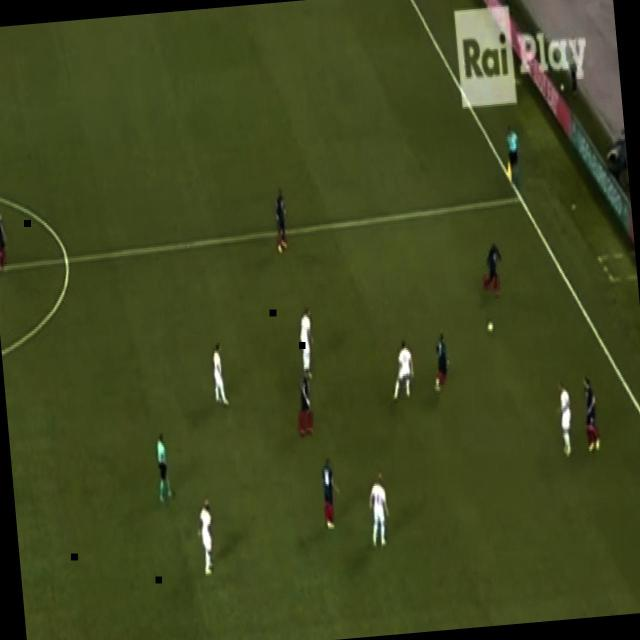ball: (486, 319, 494, 336), (559, 83, 566, 93)
player-white: (194, 496, 220, 580), (579, 374, 607, 452), (293, 303, 319, 383), (387, 338, 418, 404), (366, 472, 392, 548), (553, 381, 577, 459), (292, 366, 317, 440), (152, 429, 175, 508), (319, 456, 343, 531), (429, 328, 453, 399), (479, 240, 506, 300), (208, 341, 230, 409), (504, 126, 524, 188), (272, 187, 290, 253), (0, 207, 10, 269)
